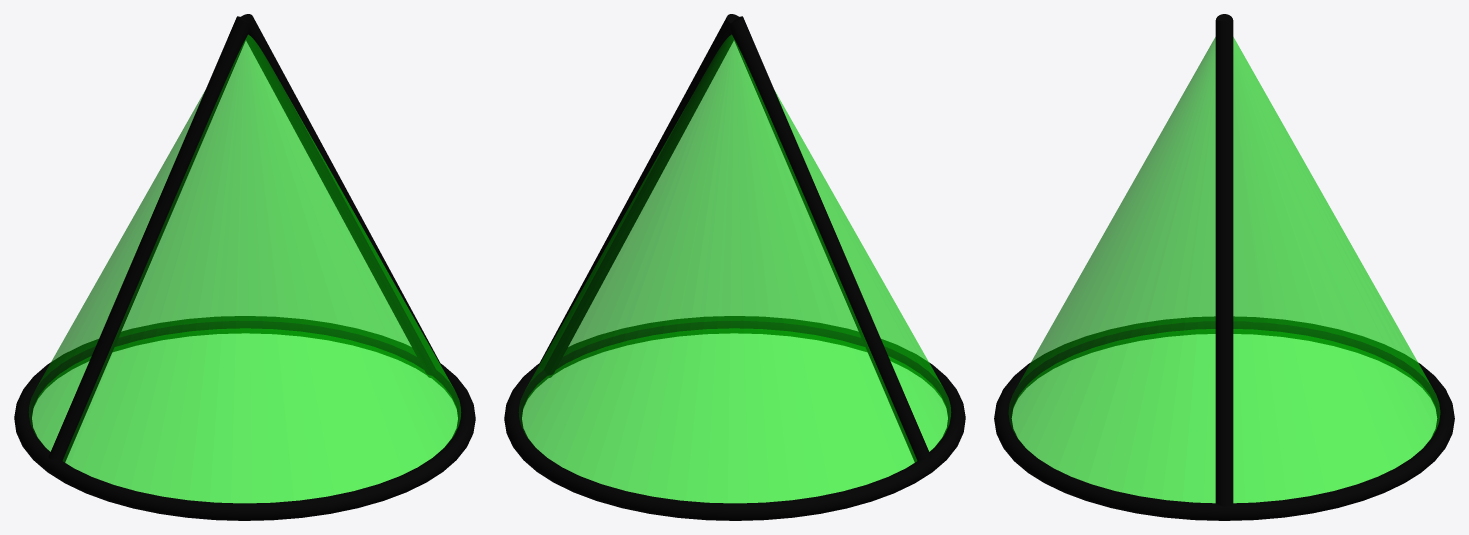
File: thecone.fbx
The picture shows the model from 3 angles, left to right: view 1: azimuth 30°, elevation 25°; view 2: azimuth 150°, elevation 25°; view 3: azimuth 270°, elevation 25°; orthographic projection.
Parts seen in each view (by area): view 1: ReferenceCone, BaseRing, SideLine_180, SideLine_0; view 2: ReferenceCone, BaseRing, SideLine_180, SideLine_0; view 3: ReferenceCone, BaseRing, SideLine_0.
Part boxes in pixels (x1,y1,x2,y2): ReferenceCone: [29, 35, 460, 503]; BaseRing: [14, 316, 475, 520]; SideLine_180: [48, 16, 249, 462]; SideLine_0: [241, 14, 441, 377]; ReferenceCone: [519, 35, 950, 503]; BaseRing: [504, 316, 965, 520]; SideLine_180: [730, 16, 931, 462]; SideLine_0: [538, 14, 738, 377]; ReferenceCone: [1008, 37, 1440, 503]; BaseRing: [994, 316, 1454, 520]; SideLine_0: [1215, 20, 1233, 506].
Size of the model in its own units: 210 by 206 by 210.
